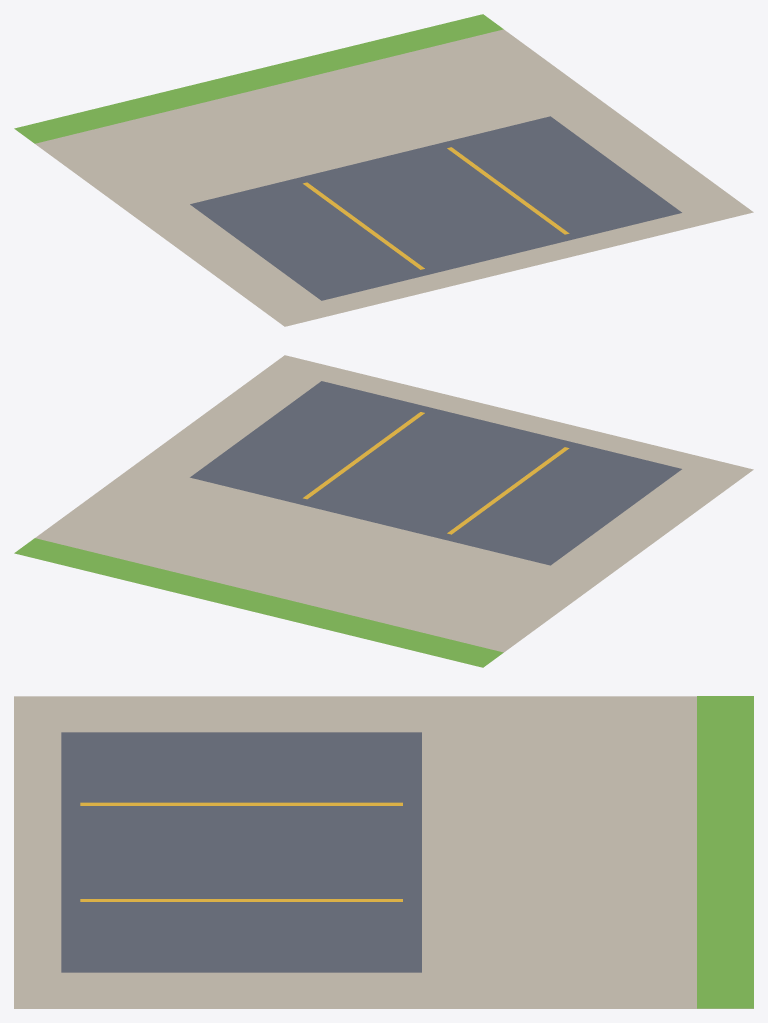
File: L_GasLot.fbx
The picture shows the model from 3 angles, top to bottom: view 1: azimuth 30°, elevation 25°; view 2: azimuth 150°, elevation 25°; view 3: azimuth 270°, elevation 25°; orthographic projection. The views are drawn at different scales.
Parts seen in each view (by area): view 1: L_GasLot; view 2: L_GasLot; view 3: L_GasLot.
Boxes of the visible parts, x1,y1,x2,y2 form: L_GasLot: (14, 14, 753, 326); L_GasLot: (14, 355, 753, 667); L_GasLot: (14, 696, 753, 1008).
Size of the model in its own units: 7.8 by 0.002 by 7.8.
